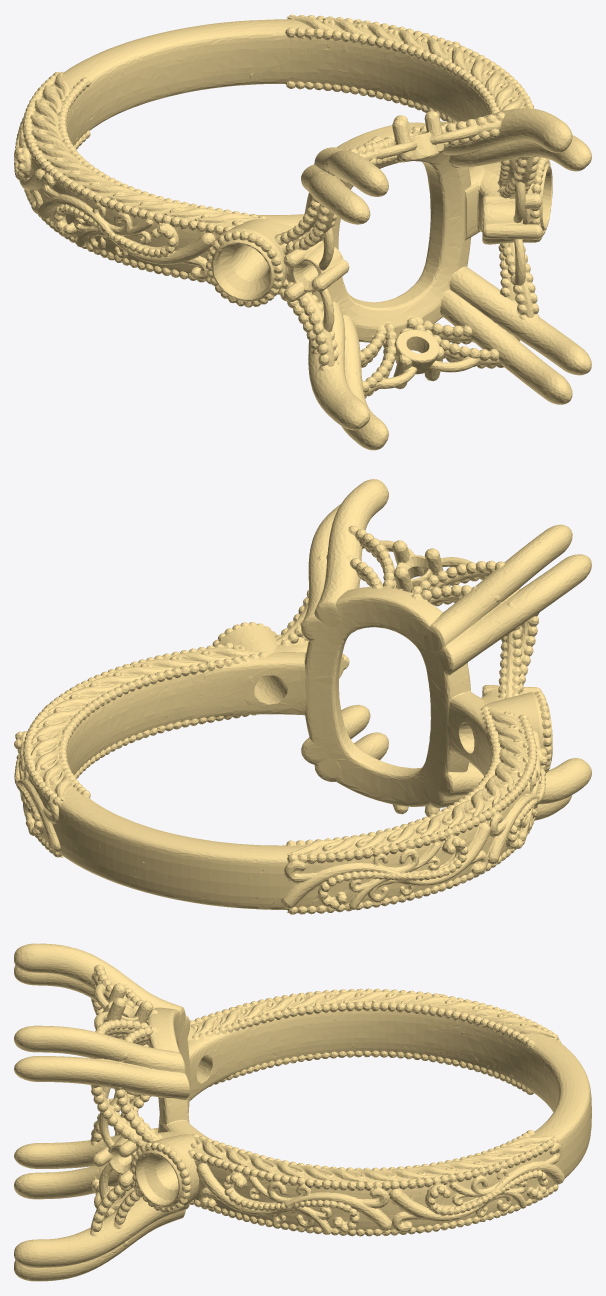
Rendered from engagement-ring-a.glb.
3 renders of one model, top to bottom at view 1: azimuth 30°, elevation 25°; view 2: azimuth 150°, elevation 25°; view 3: azimuth 270°, elevation 25°, orthographic. The views are drawn at different scales.
Parts seen in each view (by area): view 1: Metal Yellow Gold; view 2: Metal Yellow Gold; view 3: Metal Yellow Gold.
Part boxes in pixels (box(x1,y1,x2,y2)): Metal Yellow Gold: box(14, 14, 591, 450); Metal Yellow Gold: box(14, 479, 591, 914); Metal Yellow Gold: box(14, 943, 591, 1281).
Size of the model in its own units: 21.26 by 12.35 by 25.53.
